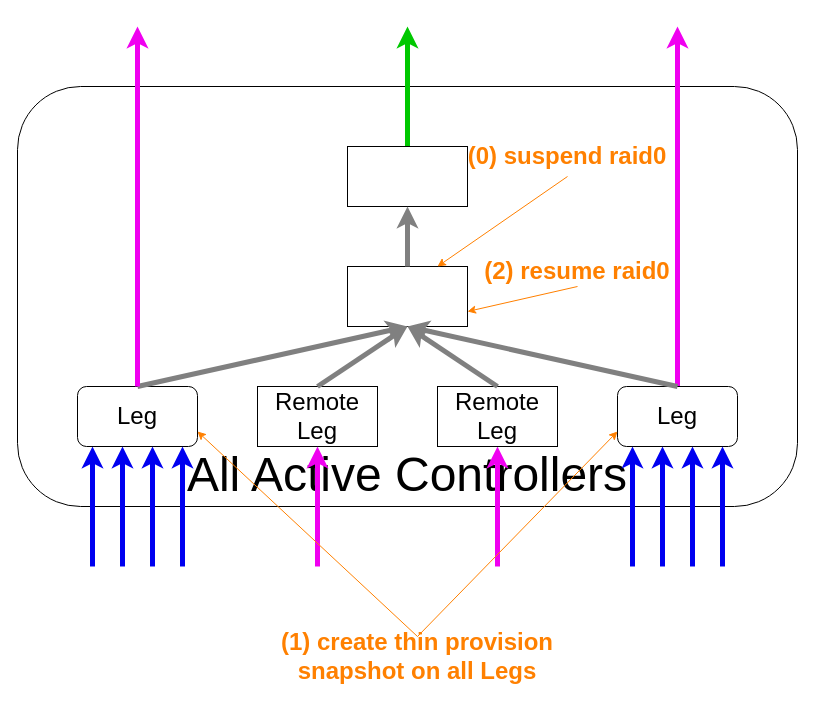
Image size: 815x703. Some labels were removed from this diagram. The centre of each missing label's shape, as x and y in pixels:
"nvmeof target" belongs at pixel 407 176.
"raid0" belongs at pixel 407 296.
